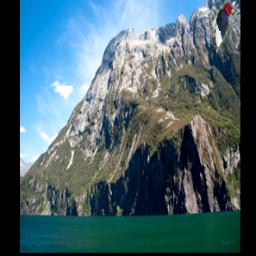Woodpecker: (209, 3, 237, 60)
